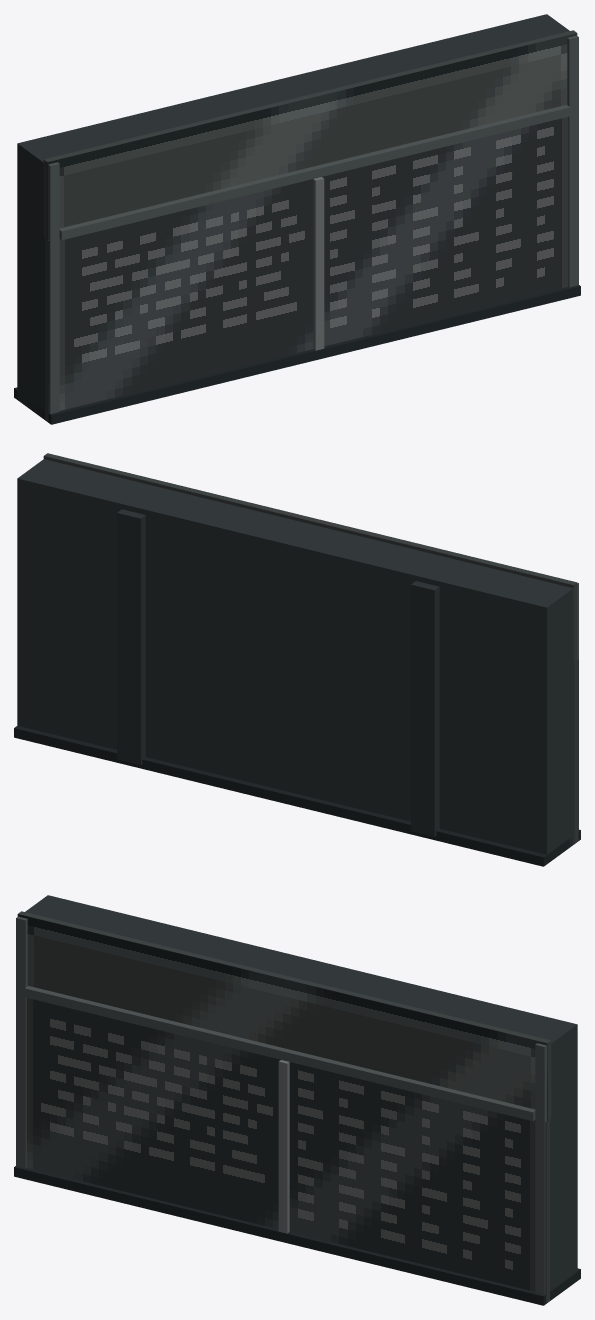
Rendered from CMU3DCMMemorialMaintainersDecorFinalCloud.glb.
3 views of the same model, one above another, from view 1: azimuth 30°, elevation 25°; view 2: azimuth 150°, elevation 25°; view 3: azimuth 330°, elevation 25° (orthographic).
Parts seen in each view (by area): view 1: left engraved remembrance plaque original face, right engraved remembrance plaque original face, reflective upper header original face, solid rear structural slab, bottom stepped continuous plinth, upper plaque separation rail, left raised edge moulding, right raised edge moulding, reflective upper header contour backing 0, center dividing metal mullion, left engraved remembrance plaque contour backing 0; view 2: solid rear structural slab, rear slab support rib left, rear slab support rib right, bottom stepped continuous plinth, reflective upper header contour backing 0, left engraved remembrance plaque contour backing 0; view 3: left engraved remembrance plaque original face, right engraved remembrance plaque original face, reflective upper header original face, solid rear structural slab, bottom stepped continuous plinth, upper plaque separation rail, right raised edge moulding, left raised edge moulding, reflective upper header contour backing 0, center dividing metal mullion, right engraved remembrance plaque contour backing 0.
Part boxes in pixels (x1=…): left engraved remembrance plaque original face: x1=48, y1=179, x2=313, y2=413; right engraved remembrance plaque original face: x1=322, y1=117, x2=568, y2=346; reflective upper header original face: x1=47, y1=33, x2=577, y2=240; solid rear structural slab: x1=17, y1=14, x2=569, y2=419; bottom stepped continuous plinth: x1=14, y1=285, x2=580, y2=424; upper plaque separation rail: x1=59, y1=105, x2=570, y2=240; left raised edge moulding: x1=48, y1=162, x2=59, y2=413; right raised edge moulding: x1=567, y1=35, x2=578, y2=287; reflective upper header contour backing 0: x1=43, y1=30, x2=576, y2=239; center dividing metal mullion: x1=313, y1=177, x2=324, y2=350; left engraved remembrance plaque contour backing 0: x1=45, y1=238, x2=48, y2=422; solid rear structural slab: x1=17, y1=459, x2=574, y2=854; rear slab support rib left: x1=411, y1=581, x2=439, y2=836; rear slab support rib right: x1=117, y1=509, x2=145, y2=765; bottom stepped continuous plinth: x1=14, y1=725, x2=580, y2=866; reflective upper header contour backing 0: x1=43, y1=453, x2=577, y2=662; left engraved remembrance plaque contour backing 0: x1=574, y1=659, x2=578, y2=843; left engraved remembrance plaque original face: x1=26, y1=998, x2=280, y2=1229; right engraved remembrance plaque original face: x1=289, y1=1062, x2=546, y2=1294; reflective upper header original face: x1=17, y1=914, x2=547, y2=1121; solid rear structural slab: x1=25, y1=895, x2=577, y2=1300; bottom stepped continuous plinth: x1=14, y1=1166, x2=580, y2=1305; upper plaque separation rail: x1=24, y1=986, x2=535, y2=1121; right raised edge moulding: x1=535, y1=1043, x2=546, y2=1294; left raised edge moulding: x1=16, y1=916, x2=27, y2=1168; reflective upper header contour backing 0: x1=18, y1=911, x2=551, y2=1120; center dividing metal mullion: x1=278, y1=1060, x2=289, y2=1233; right engraved remembrance plaque contour backing 0: x1=546, y1=1119, x2=549, y2=1303.
Bounding box in the file's own units: 2 × 0.9377 × 0.2545.
Materials: 9 (3 with a texture image).
